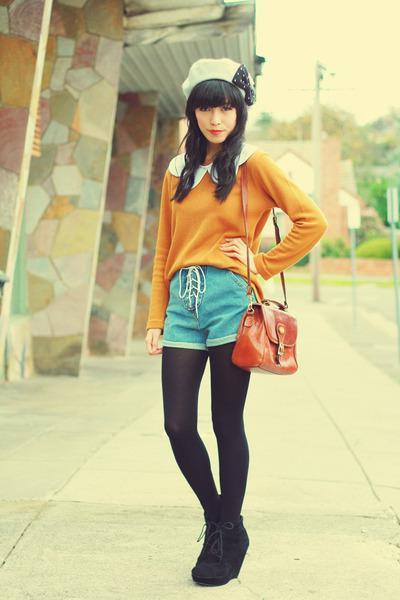Shorts: (155, 264, 263, 353)
long sleeve shirt: (144, 141, 331, 332)
